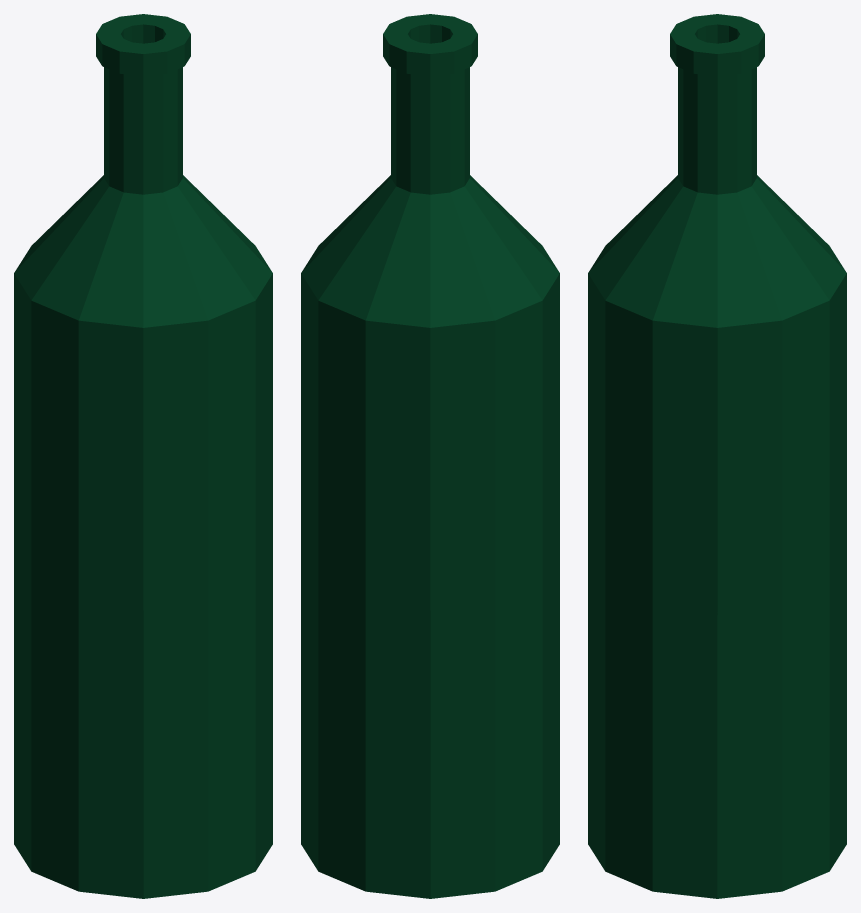
The model's file is BotellaLobby.fbx.
3 renders of one model, left to right at view 1: azimuth 30°, elevation 25°; view 2: azimuth 150°, elevation 25°; view 3: azimuth 270°, elevation 25°, orthographic.
Visible parts, largest first — view 1: Circle.001; view 2: Circle.001; view 3: Circle.001.
Boxes of the visible parts, x1,y1,x2,y2 form: Circle.001: (14, 14, 272, 898); Circle.001: (301, 14, 559, 898); Circle.001: (588, 14, 846, 898).
Bounding box in the file's own units: 50.75 × 175 × 50.75.
